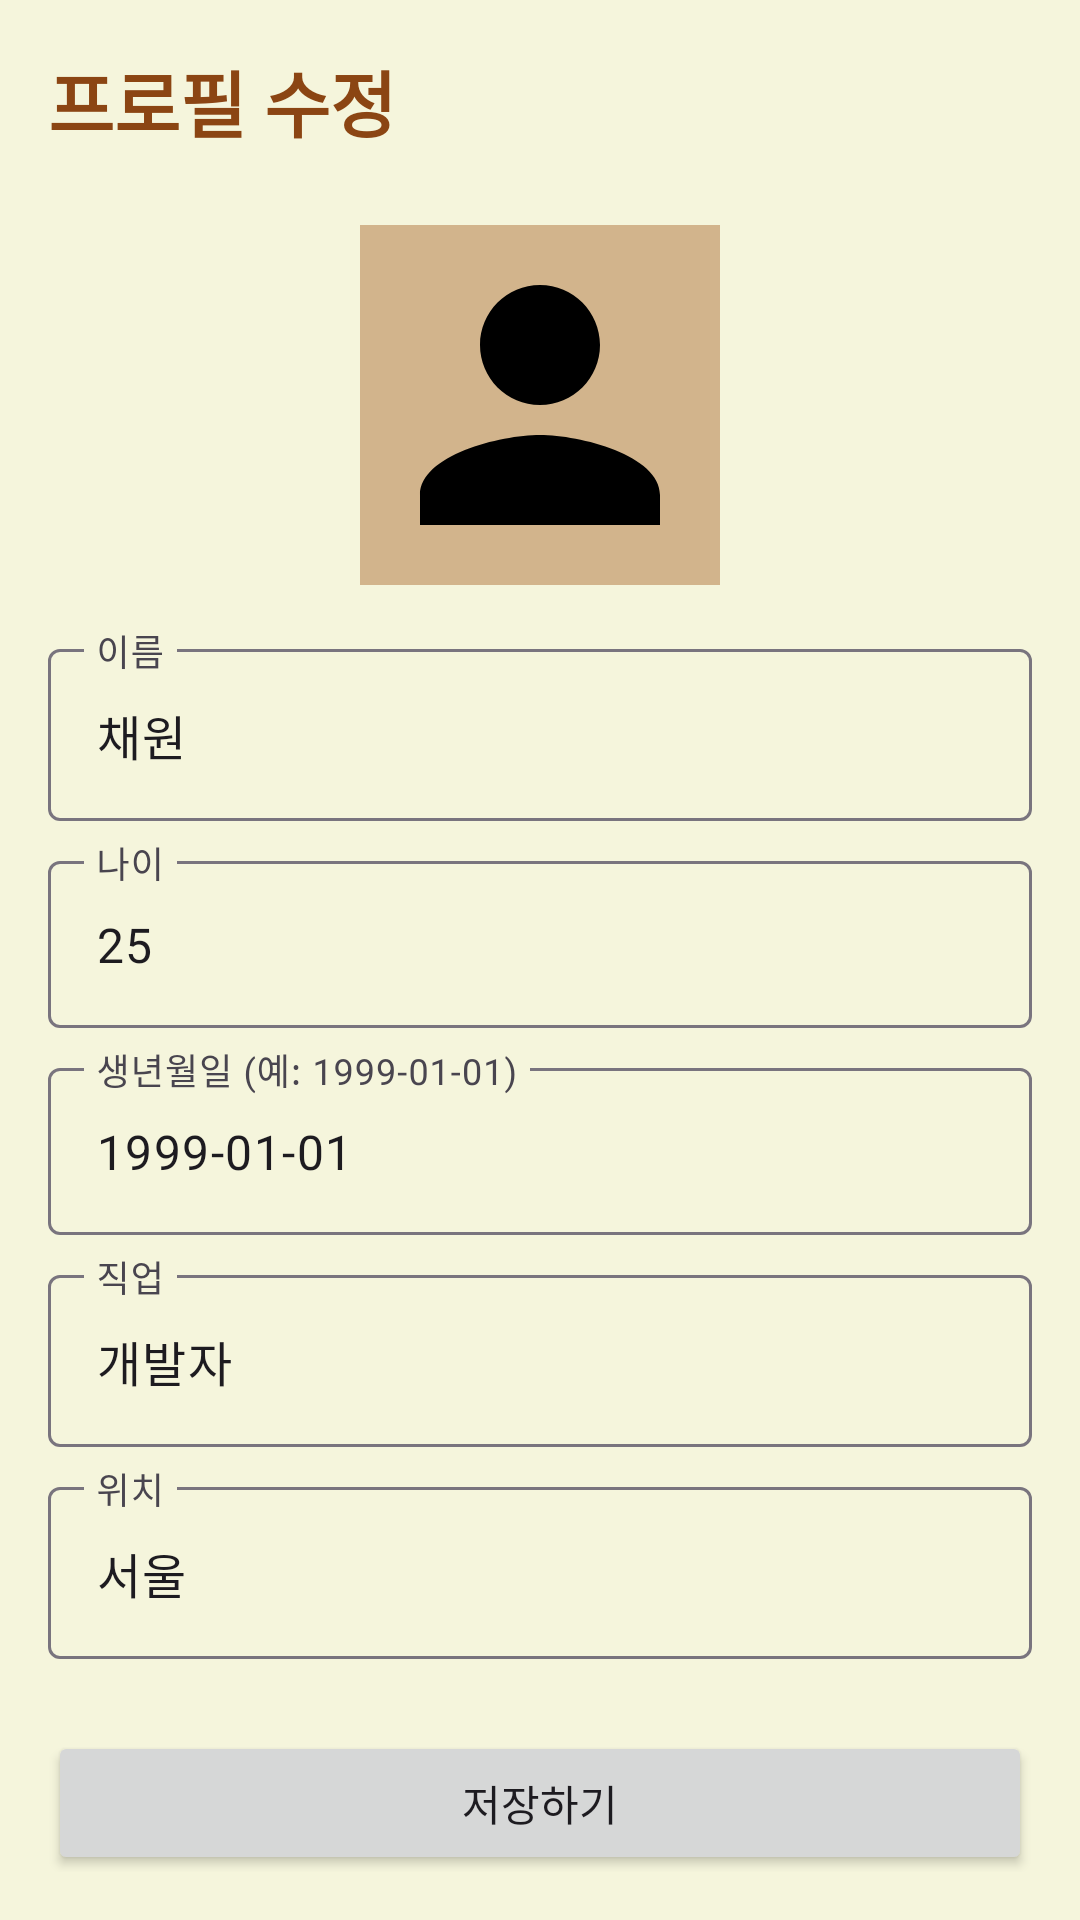

Icon click points for this 1080x1920 phone screenshot, format (x=x, y=y):
Profile picture: (x=540, y=405)
